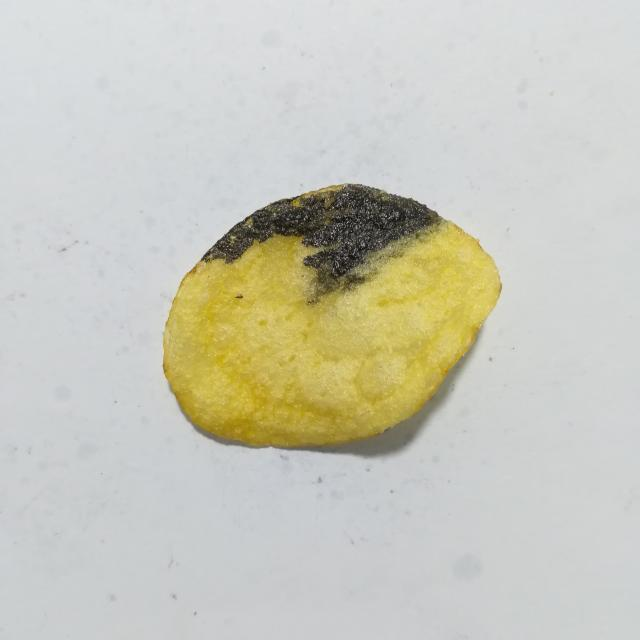chip: (163, 185, 501, 447)
damaged: (202, 184, 442, 294), (235, 294, 243, 299)
semi-damaged: (320, 219, 447, 296), (303, 275, 325, 307)
